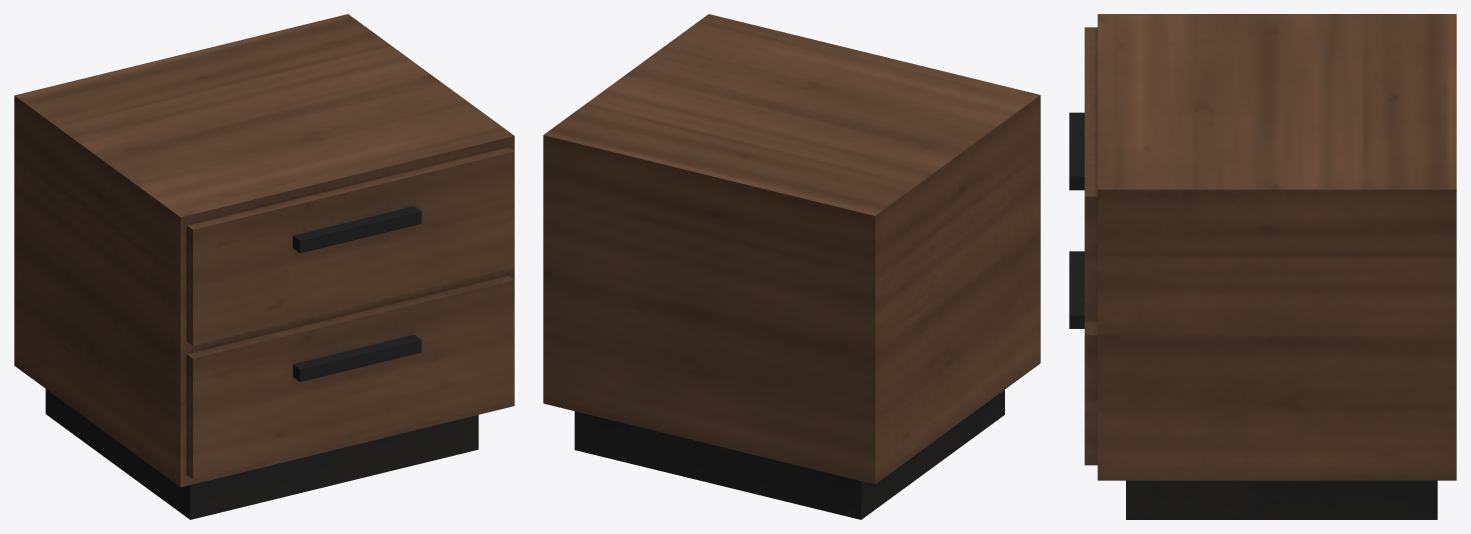
Rendered from H_Nightstand.fbx.
The picture shows the model from 3 angles, left to right: view 1: azimuth 30°, elevation 25°; view 2: azimuth 150°, elevation 25°; view 3: azimuth 270°, elevation 25°; orthographic projection. The views are drawn at different scales.
Visible parts, largest first — view 1: H_Nightstand; view 2: H_Nightstand; view 3: H_Nightstand.
Part boxes in pixels (left/top/right/bottom): H_Nightstand: left=14, top=14, right=514, bottom=519; H_Nightstand: left=543, top=14, right=1040, bottom=519; H_Nightstand: left=1069, top=14, right=1456, bottom=519.
Size of the model in its own units: 220 by 200 by 205.
Materials: 1 (1 with a texture image).
